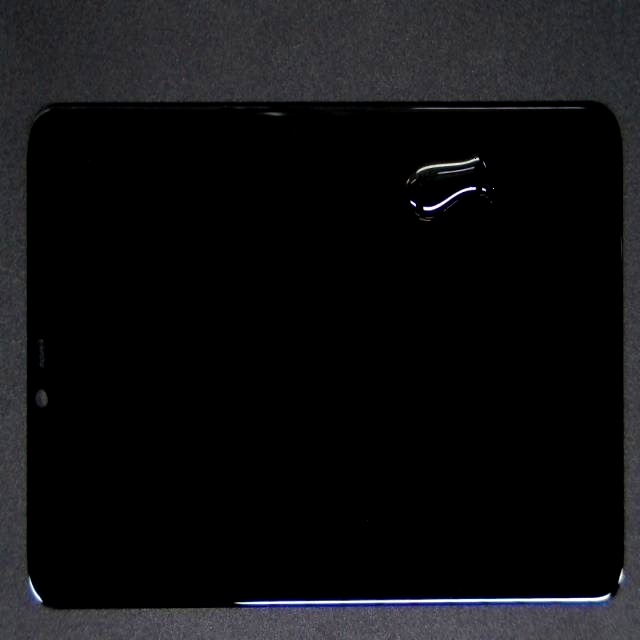oil: (267, 66, 640, 234)
